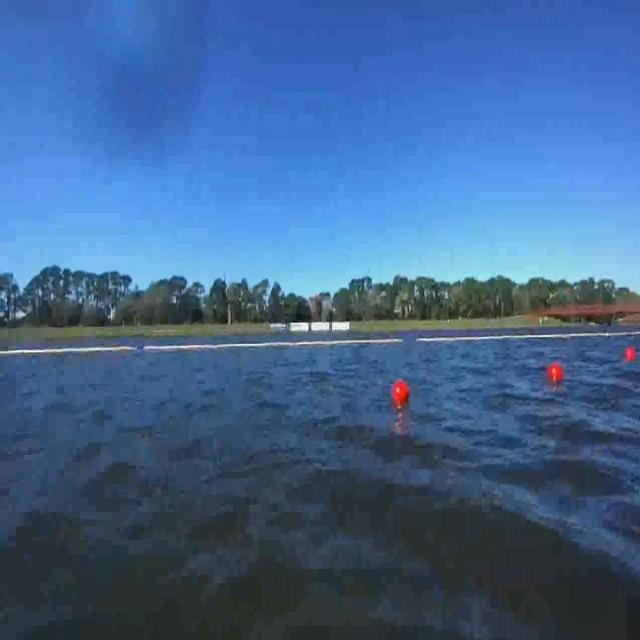red-buoy: (548, 362, 564, 385), (392, 381, 408, 403), (625, 347, 636, 363)
